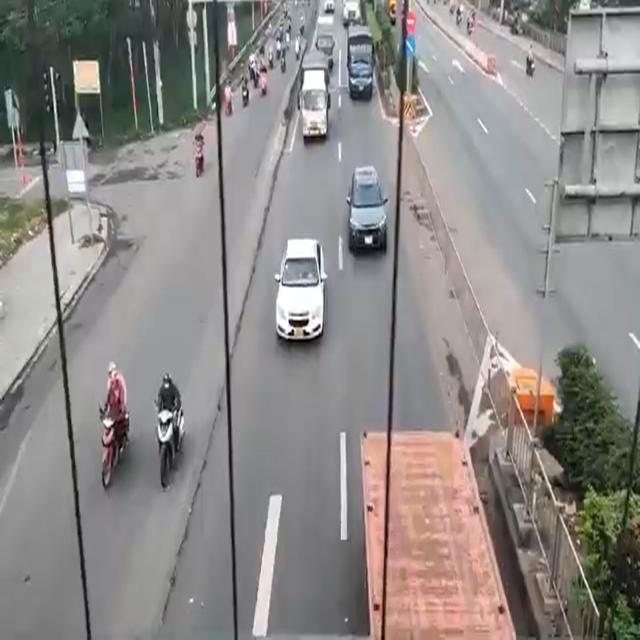car: (281, 236, 321, 345), (347, 166, 391, 255)
motorbike: (96, 402, 130, 489), (155, 408, 183, 482), (193, 141, 204, 179)
truck: (300, 50, 330, 144), (347, 28, 374, 100)
